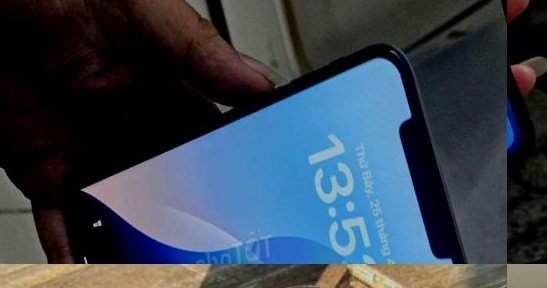scratch: (511, 132, 547, 168)
